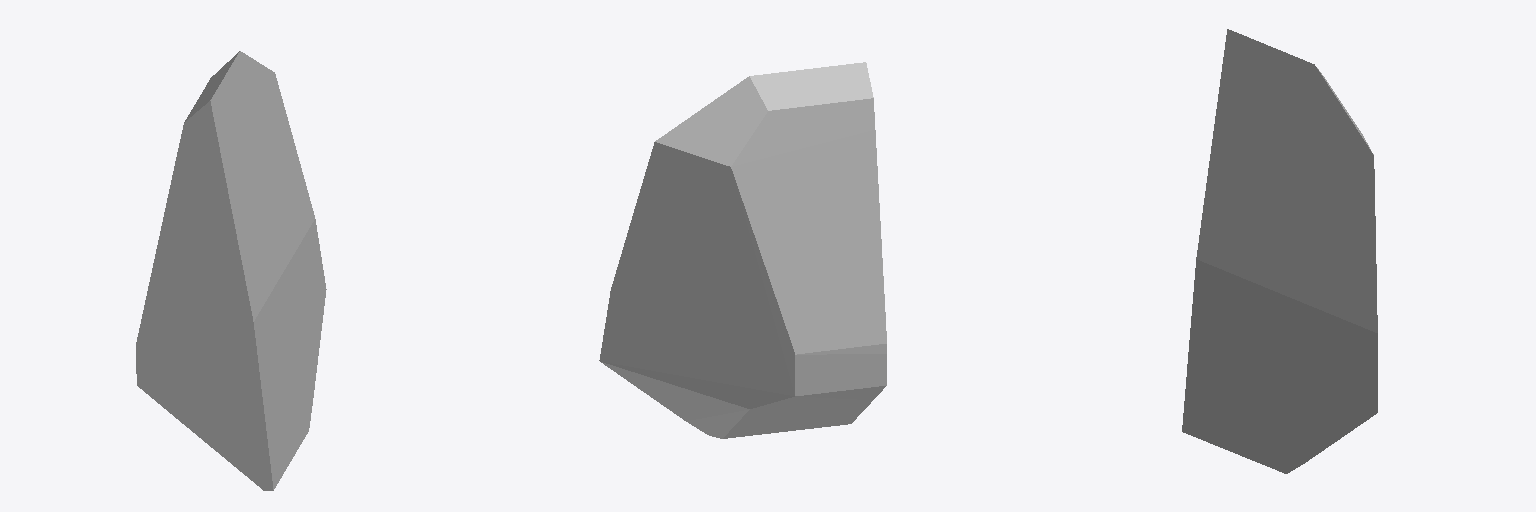
File: li-fang-ti-.001_cell.059.obj
3 views of the same model, side by side, from view 1: azimuth 30°, elevation 25°; view 2: azimuth 150°, elevation 25°; view 3: azimuth 270°, elevation 25° (orthographic).
Visible parts, largest first — view 1: 立方体.001_cell.059; view 2: 立方体.001_cell.059; view 3: 立方体.001_cell.059.
Boxes of the visible parts, box(x1,y1,x2,y2) form: 立方体.001_cell.059: box(136, 51, 326, 490); 立方体.001_cell.059: box(599, 62, 886, 438); 立方体.001_cell.059: box(1182, 29, 1377, 473).
Bounding box in the file's own units: 0.1741 × 0.2674 × 0.1237.